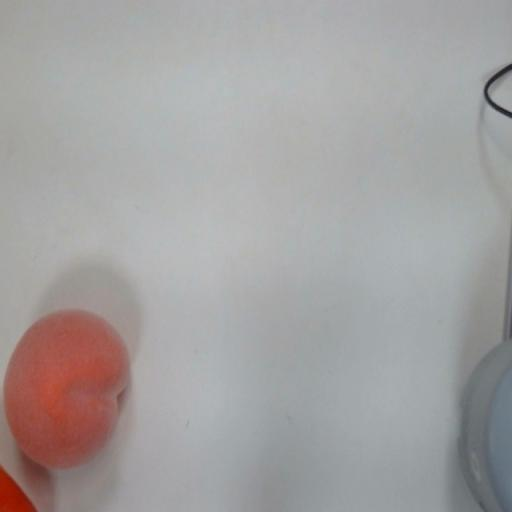Ripe: (7, 289, 144, 487)
